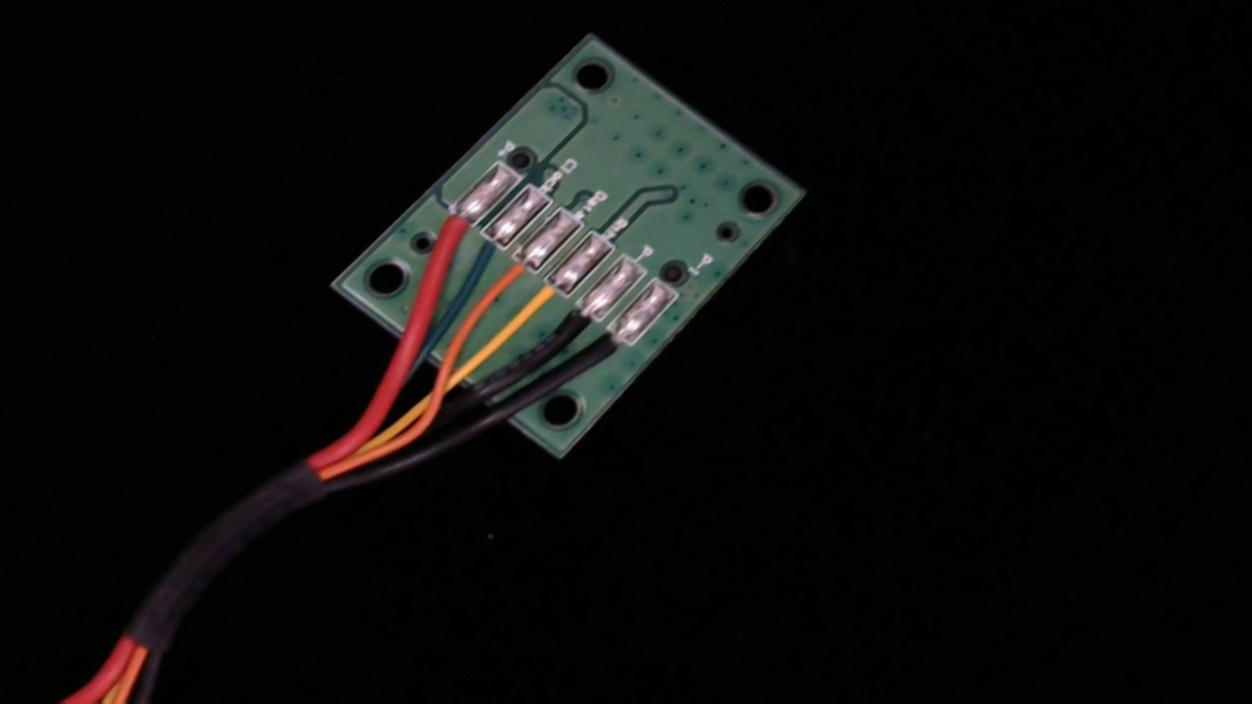Black: (523, 292, 614, 373)
Black1: (567, 314, 652, 390)
Green: (437, 218, 524, 292)
Orange: (461, 244, 551, 322)
Red: (401, 196, 490, 272)
Yellow: (495, 266, 587, 347)
